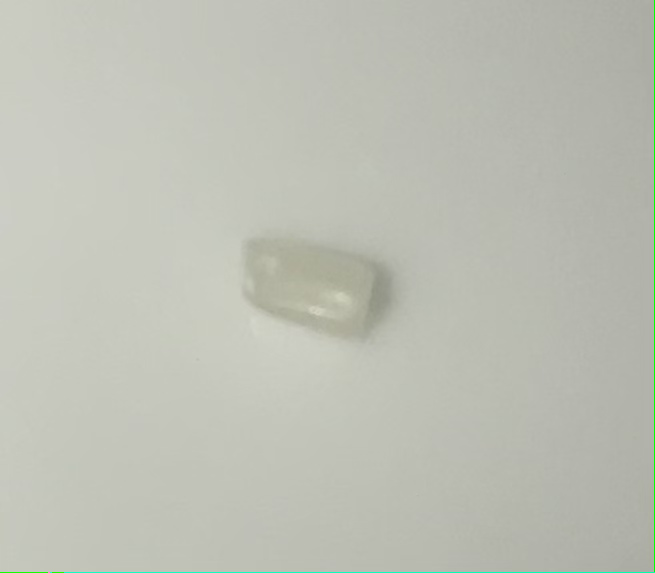Gao Tam: (239, 226, 379, 340)
